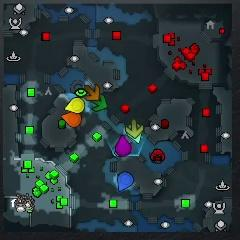p1: (117, 172, 133, 191)
p2: (125, 123, 142, 143)
p3: (116, 136, 131, 156)
p4: (65, 98, 85, 113)
p5: (62, 112, 82, 127)
x2: (125, 120, 143, 137)
x4: (91, 94, 107, 112)
x5: (84, 85, 100, 100)
